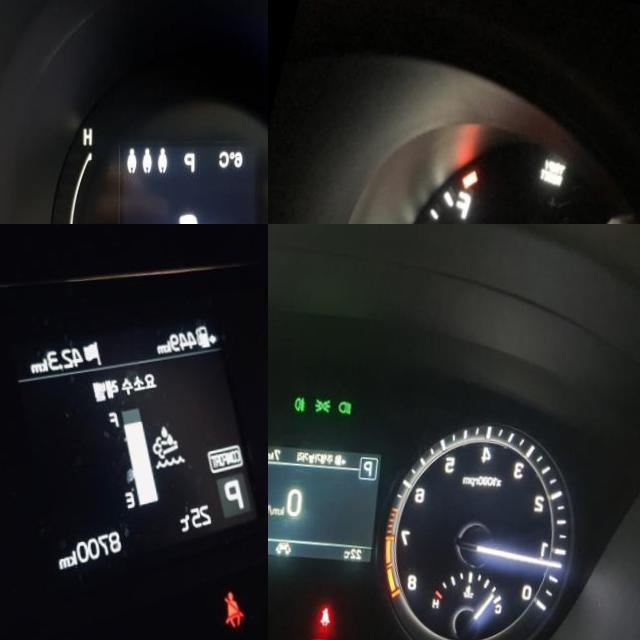FrontFogLight: (296, 395, 308, 412)
Low beam: (339, 399, 354, 415)
SideLamp: (316, 396, 334, 414)
